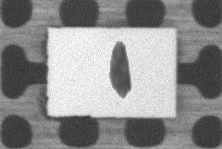DIE_INK: (159, 26, 198, 68)
